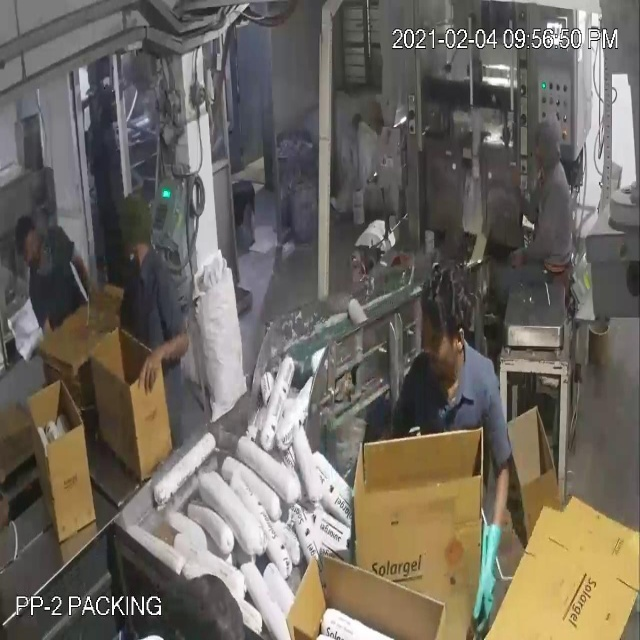Guantes: (464, 493, 518, 624)
Sin_guantes: (121, 314, 196, 404)
